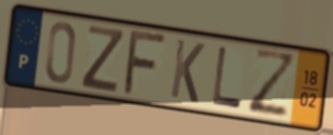0: (44, 20, 78, 86)
F: (120, 28, 170, 98)
K: (168, 36, 207, 107)
L: (210, 44, 243, 112)
Z: (246, 46, 299, 119), (78, 22, 127, 95)
